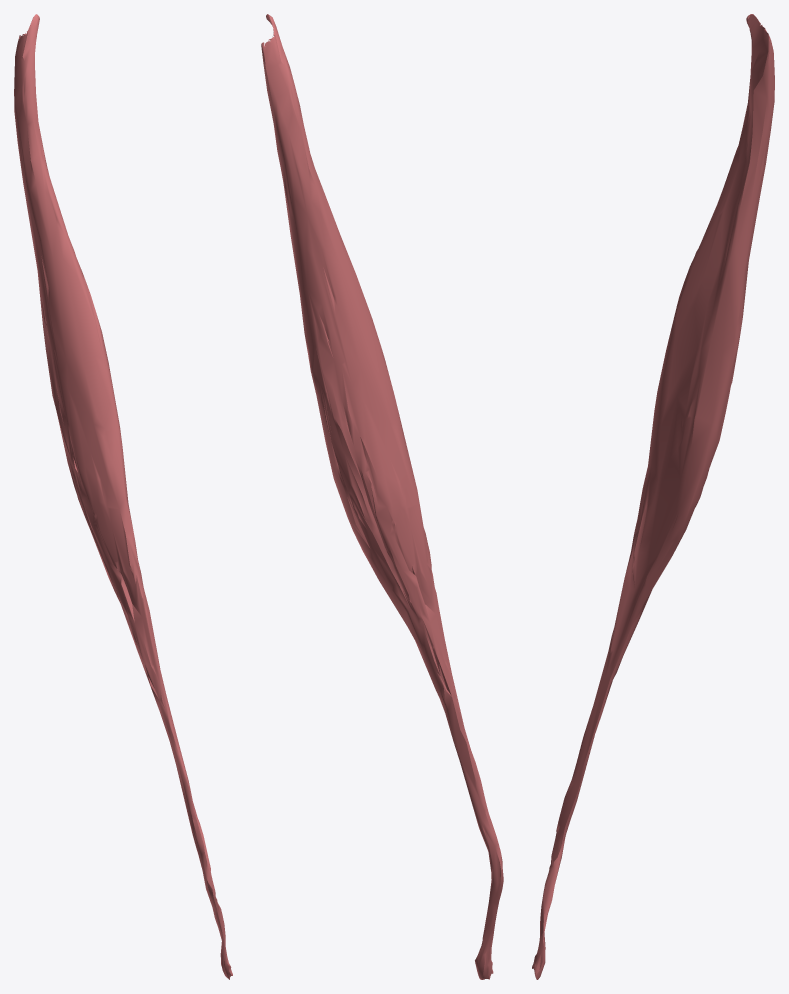
The picture shows the model from 3 angles, left to right: view 1: azimuth 90°, elevation 25°; view 2: azimuth 150°, elevation 25°; view 3: azimuth 270°, elevation 25°; orthographic projection. The views are drawn at different scales.
Visible parts, largest first — view 1: FJ1489; view 2: FJ1489; view 3: FJ1489.
Part boxes in pixels (x1,y1,x2,y2): FJ1489: (14,14,232,979); FJ1489: (261,14,503,979); FJ1489: (532,14,774,979).
Size of the model in its own units: 0.044 by 0.301 by 0.0651.
